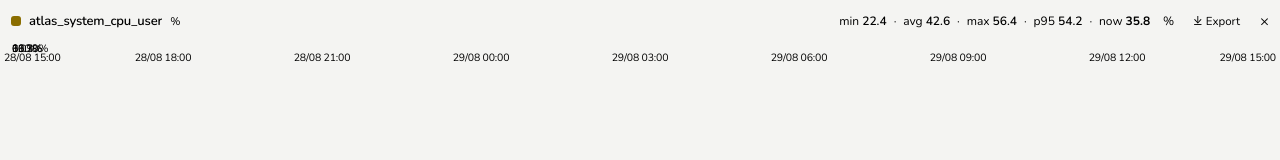
it: ChartPanelComponent › offers the export menu from its header, anchored under the button, and marks the button while the menu is open
The image size is (1280, 160).
Click the button with class "chart-panel-header-export".
click(1217, 21)  # box x1=1186 y1=11 x2=1247 y2=31
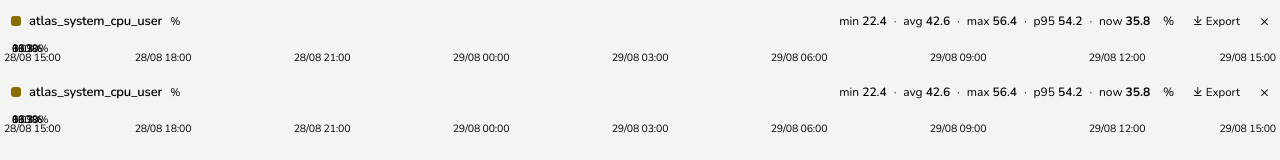
expect the button with class "chart-panel-header-export-open" is shown: met, box x1=1186 y1=82 x2=1247 y2=102
